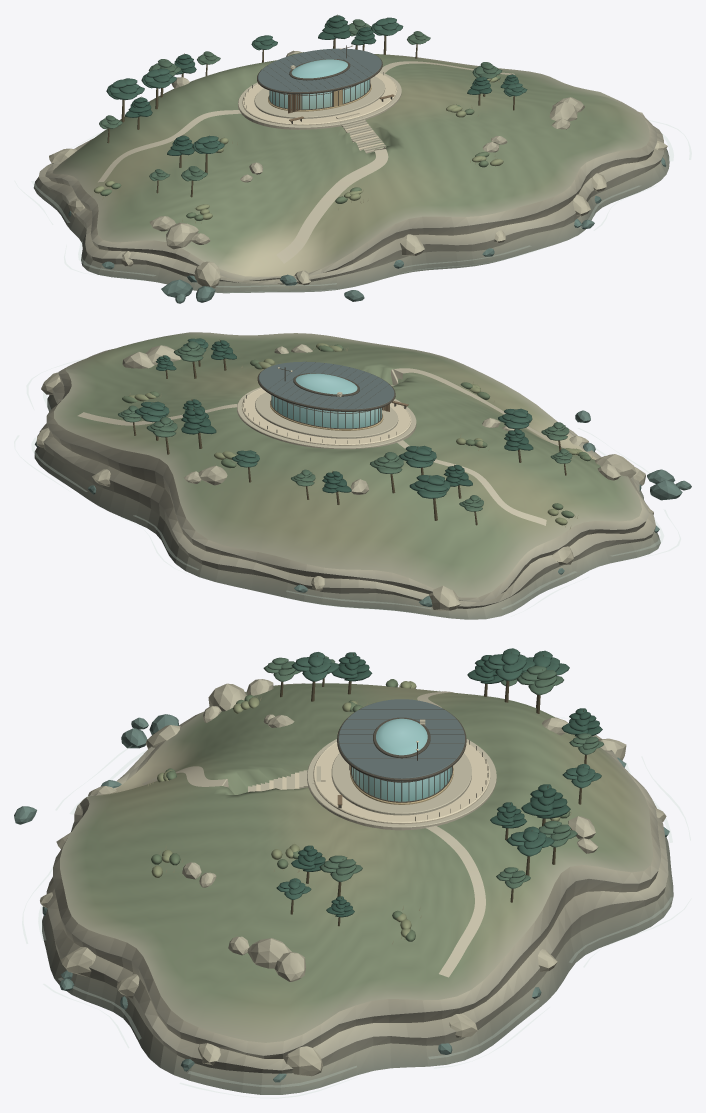
The model's file is atlantic-observatory-1dd2a9d56785.glb.
The picture shows the model from 3 angles, top to bottom: view 1: azimuth 30°, elevation 25°; view 2: azimuth 150°, elevation 25°; view 3: azimuth 270°, elevation 25°; orthographic projection. The views are drawn at different scales.
Parts seen in each view (by area): view 1: terrain_meadow_Sage_meadow, terrain_cliff_strata_Stratified_limestone, pine_boughs_Pine_boughs, coastal_rock_clusters_Stratified_limestone, observatory_canopy_Patinated_canopy, island_limestone_walk_Honed_limestone, observatory_terrace_Honed_limestone, observatory_terrace_Limestone_cut_edges, coastal_scrub_Coastal_scrub, observatory_glazing_Slate_glazing, coast_tide_shelf_Tide_lines, observatory_skylight_Slate_glazing (+2 smaller); view 2: terrain_meadow_Sage_meadow, terrain_cliff_strata_Stratified_limestone, pine_boughs_Pine_boughs, coastal_rock_clusters_Stratified_limestone, observatory_canopy_Patinated_canopy, observatory_terrace_Honed_limestone, island_limestone_walk_Honed_limestone, observatory_terrace_Limestone_cut_edges, coastal_scrub_Coastal_scrub, observatory_glazing_Slate_glazing, coast_tide_shelf_Tide_lines, observatory_skylight_Slate_glazing (+3 smaller); view 3: terrain_meadow_Sage_meadow, terrain_cliff_strata_Stratified_limestone, pine_boughs_Pine_boughs, coastal_rock_clusters_Stratified_limestone, observatory_canopy_Patinated_canopy, observatory_terrace_Honed_limestone, observatory_terrace_Limestone_cut_edges, island_limestone_walk_Honed_limestone, coast_tide_shelf_Tide_lines, coastal_scrub_Coastal_scrub, observatory_glazing_Slate_glazing, observatory_skylight_Slate_glazing (+3 smaller).
Boxes of the visible parts, x1,y1,x2,y2 form: terrain_meadow_Sage_meadow: (52, 54, 649, 276); terrain_cliff_strata_Stratified_limestone: (33, 100, 669, 293); pine_boughs_Pine_boughs: (99, 15, 527, 181); coastal_rock_clusters_Stratified_limestone: (49, 50, 667, 303); observatory_canopy_Patinated_canopy: (258, 48, 381, 91); island_limestone_walk_Honed_limestone: (98, 61, 514, 263); observatory_terrace_Honed_limestone: (238, 72, 401, 129); observatory_terrace_Limestone_cut_edges: (242, 73, 397, 125); coastal_scrub_Coastal_scrub: (94, 52, 503, 220); observatory_glazing_Slate_glazing: (269, 79, 369, 109); coast_tide_shelf_Tide_lines: (15, 120, 691, 292); observatory_skylight_Slate_glazing: (291, 59, 347, 78); terrain_meadow_Sage_meadow: (54, 332, 641, 597); terrain_cliff_strata_Stratified_limestone: (34, 349, 660, 619); pine_boughs_Pine_boughs: (118, 338, 572, 511); coastal_rock_clusters_Stratified_limestone: (35, 344, 691, 610); observatory_canopy_Patinated_canopy: (258, 361, 394, 409); observatory_terrace_Honed_limestone: (237, 387, 416, 449); island_limestone_walk_Honed_limestone: (77, 368, 565, 525); observatory_terrace_Limestone_cut_edges: (241, 388, 411, 445); coastal_scrub_Coastal_scrub: (122, 343, 591, 525); observatory_glazing_Slate_glazing: (271, 395, 381, 428); coast_tide_shelf_Tide_lines: (14, 359, 680, 610); observatory_skylight_Slate_glazing: (295, 373, 357, 394); terrain_meadow_Sage_meadow: (60, 683, 653, 1042); terrain_cliff_strata_Stratified_limestone: (42, 683, 673, 1094); pine_boughs_Pine_boughs: (263, 648, 603, 917); coastal_rock_clusters_Stratified_limestone: (14, 679, 669, 1082); observatory_canopy_Patinated_canopy: (338, 699, 464, 778); observatory_terrace_Honed_limestone: (307, 739, 496, 830); observatory_terrace_Limestone_cut_edges: (313, 742, 490, 824); island_limestone_walk_Honed_limestone: (142, 690, 485, 977); coast_tide_shelf_Tide_lines: (22, 745, 690, 1098); coastal_scrub_Coastal_scrub: (151, 679, 570, 941); observatory_glazing_Slate_glazing: (352, 767, 451, 801); observatory_skylight_Slate_glazing: (376, 718, 427, 755).
Size of the model in its own units: 186 by 36.65 by 129.
